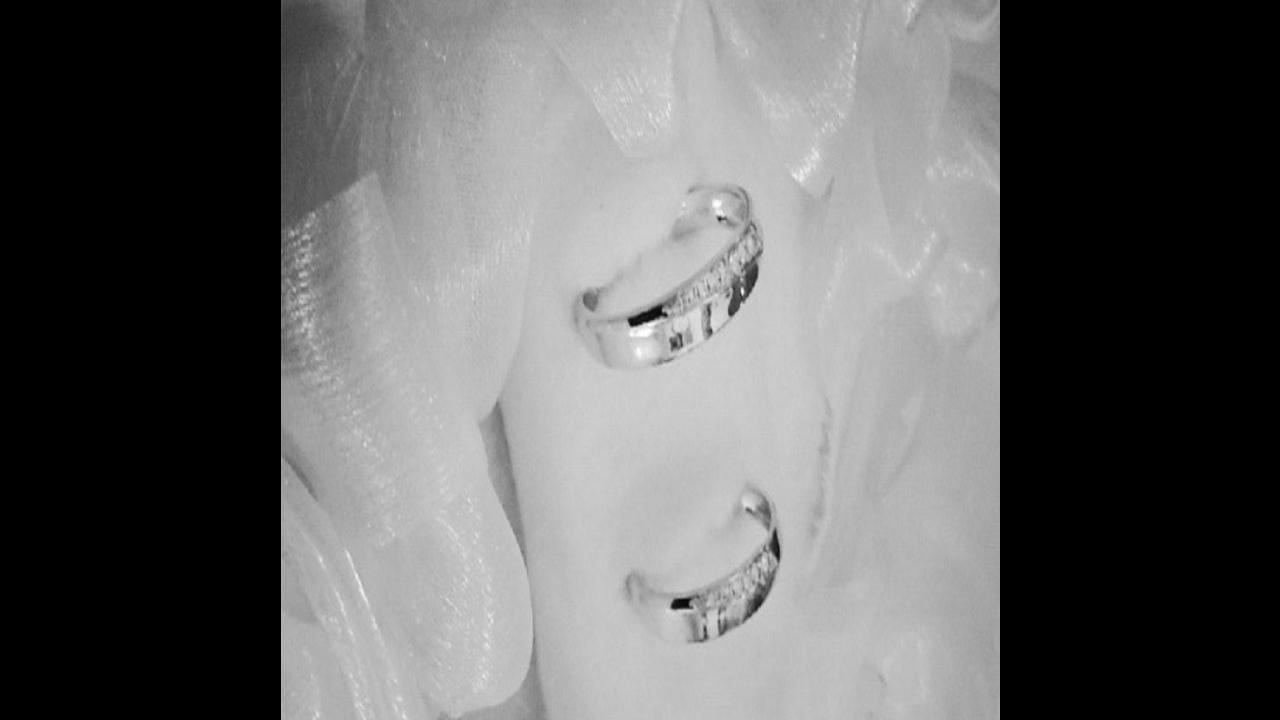ring: (569, 179, 764, 375), (625, 482, 785, 648)
